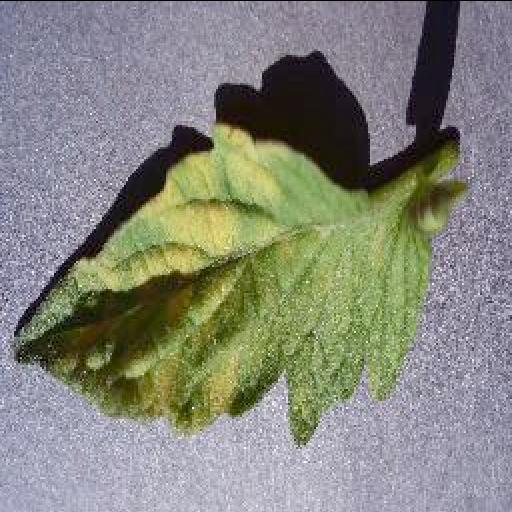disease_tomato: (11, 121, 429, 445)
